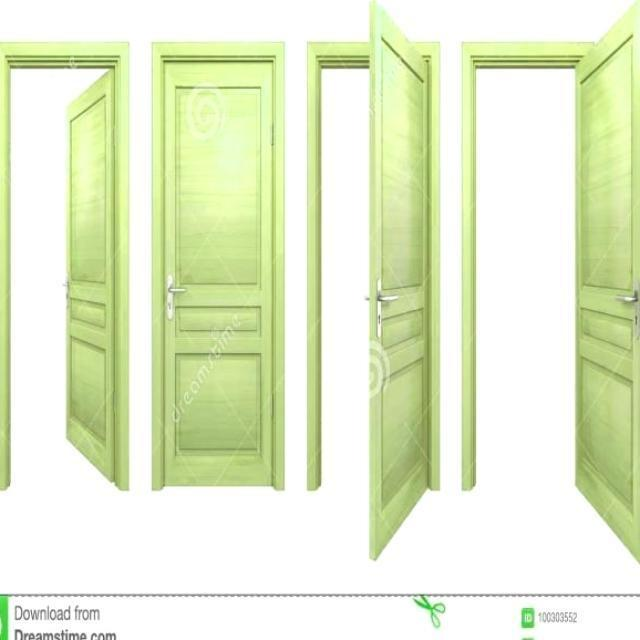door: (154, 43, 283, 490), (360, 2, 438, 561), (573, 4, 640, 566), (65, 64, 124, 488)
